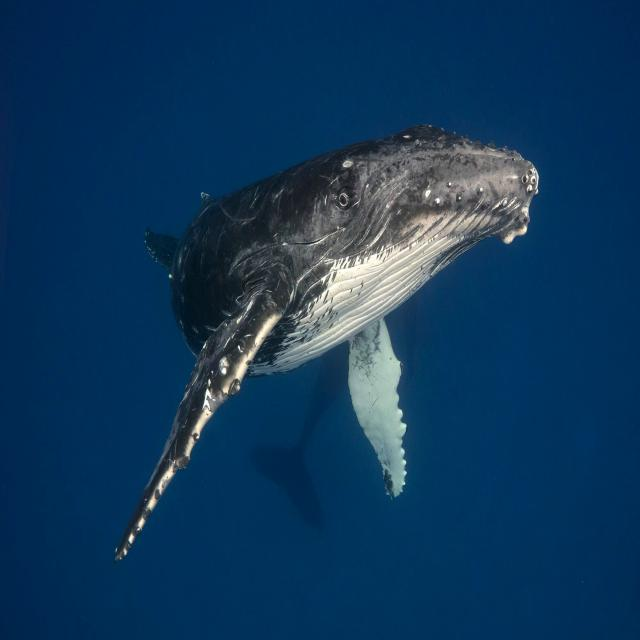whale: (114, 125, 538, 561)
